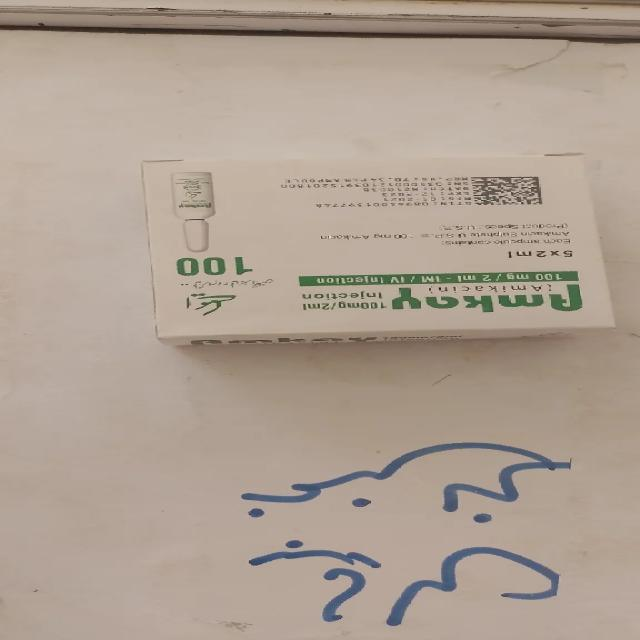drug-name: (388, 282, 583, 312)
